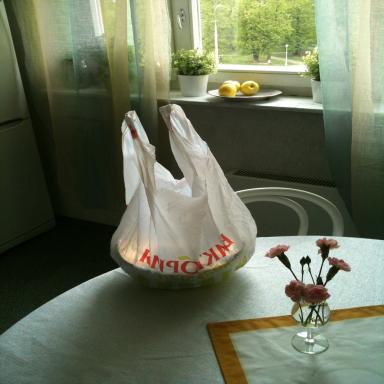plasticbag: (108, 101, 261, 288)
